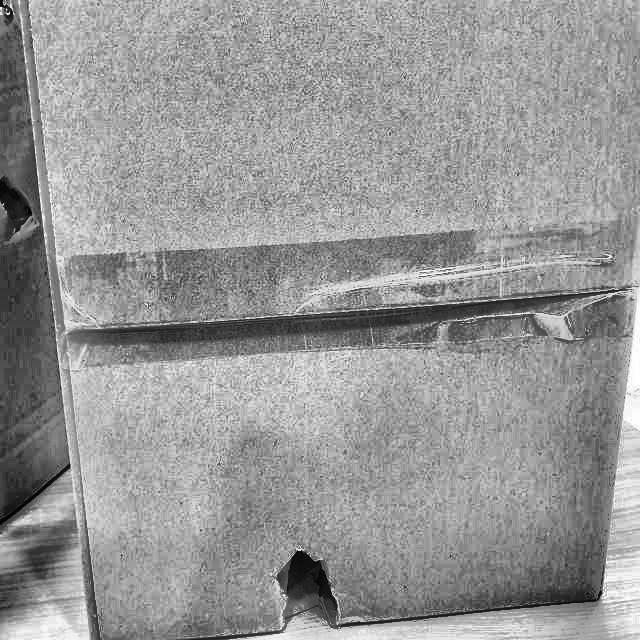box: (7, 0, 639, 639)
hole: (264, 525, 348, 631)
